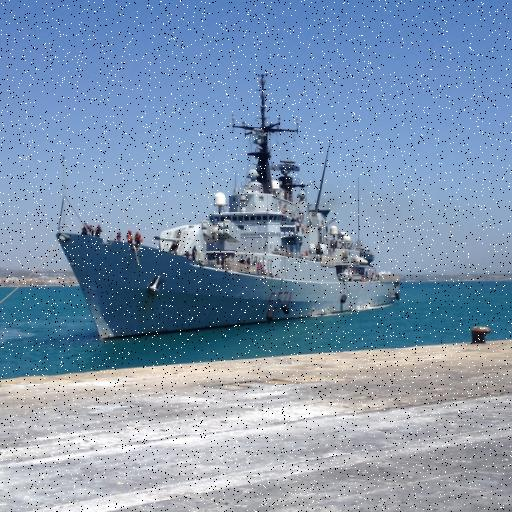Fragata: (52, 67, 403, 348)
